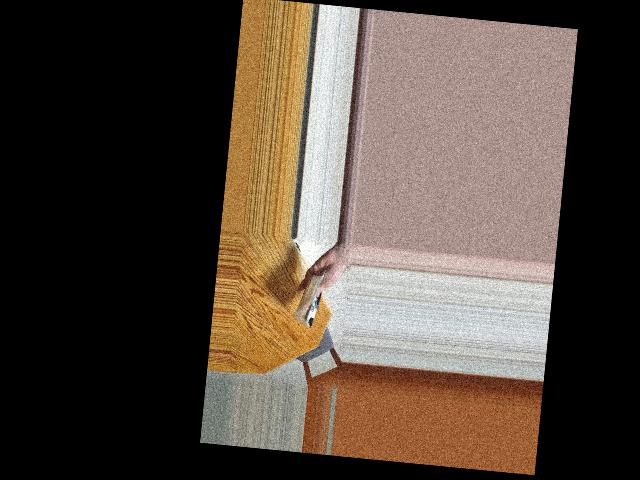cheese: (288, 272, 336, 327)
